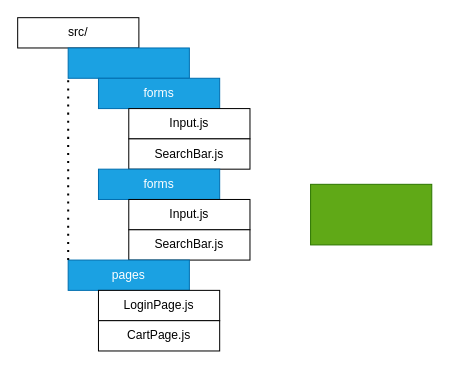
Image size: 449x369. Some labels were removed from this diagram. The centre of each missing label's shape, as x and y in pixels:
Add more organization with subfolders: point 371,214
components: point 128,62
